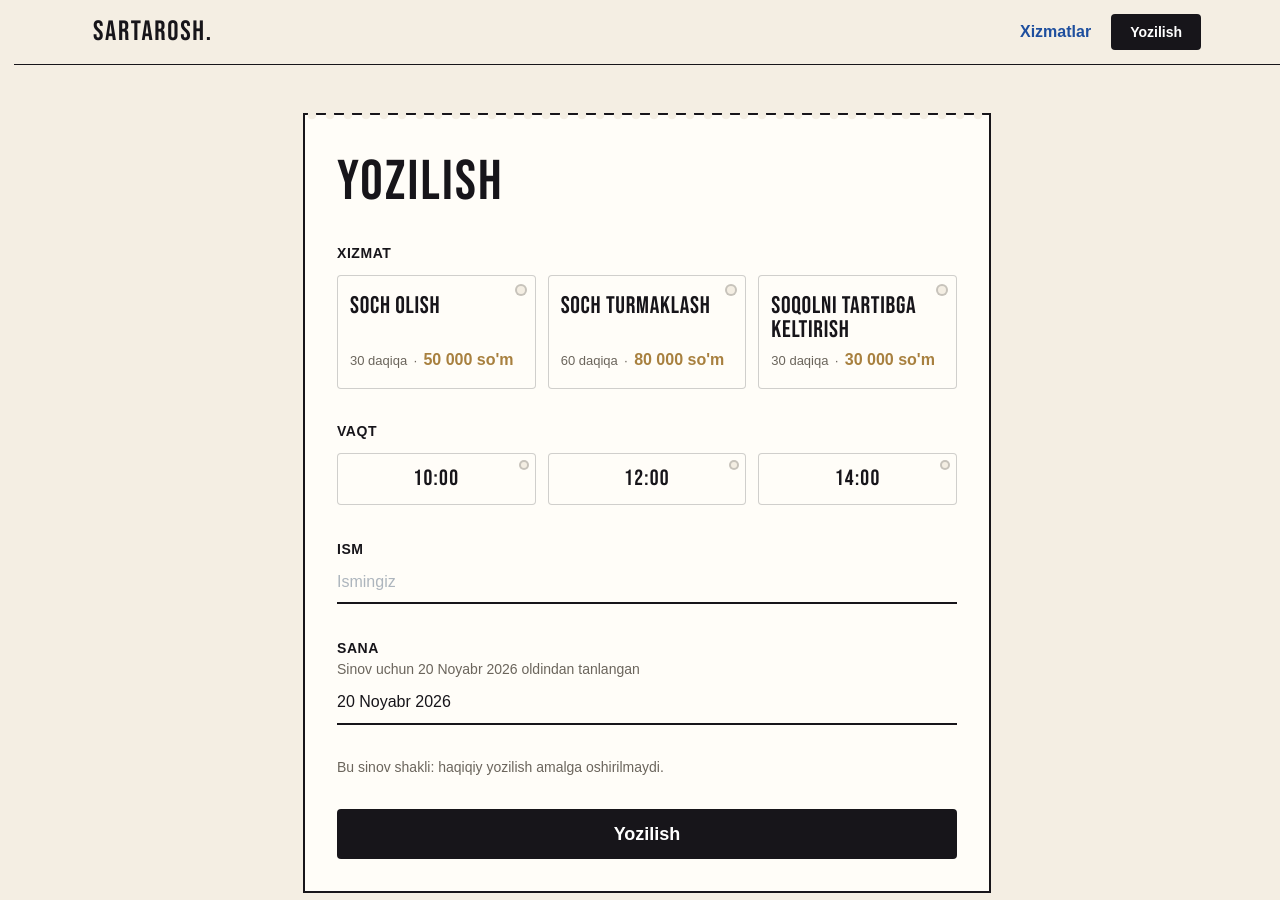
check 2b: empty name -> Ismingizni kiriting
This screenshot has width=1280, height=900.
Step 1. Click the radio button with test id "service-S01" → {"x": 436, "y": 332}, box [337,275,536,390]
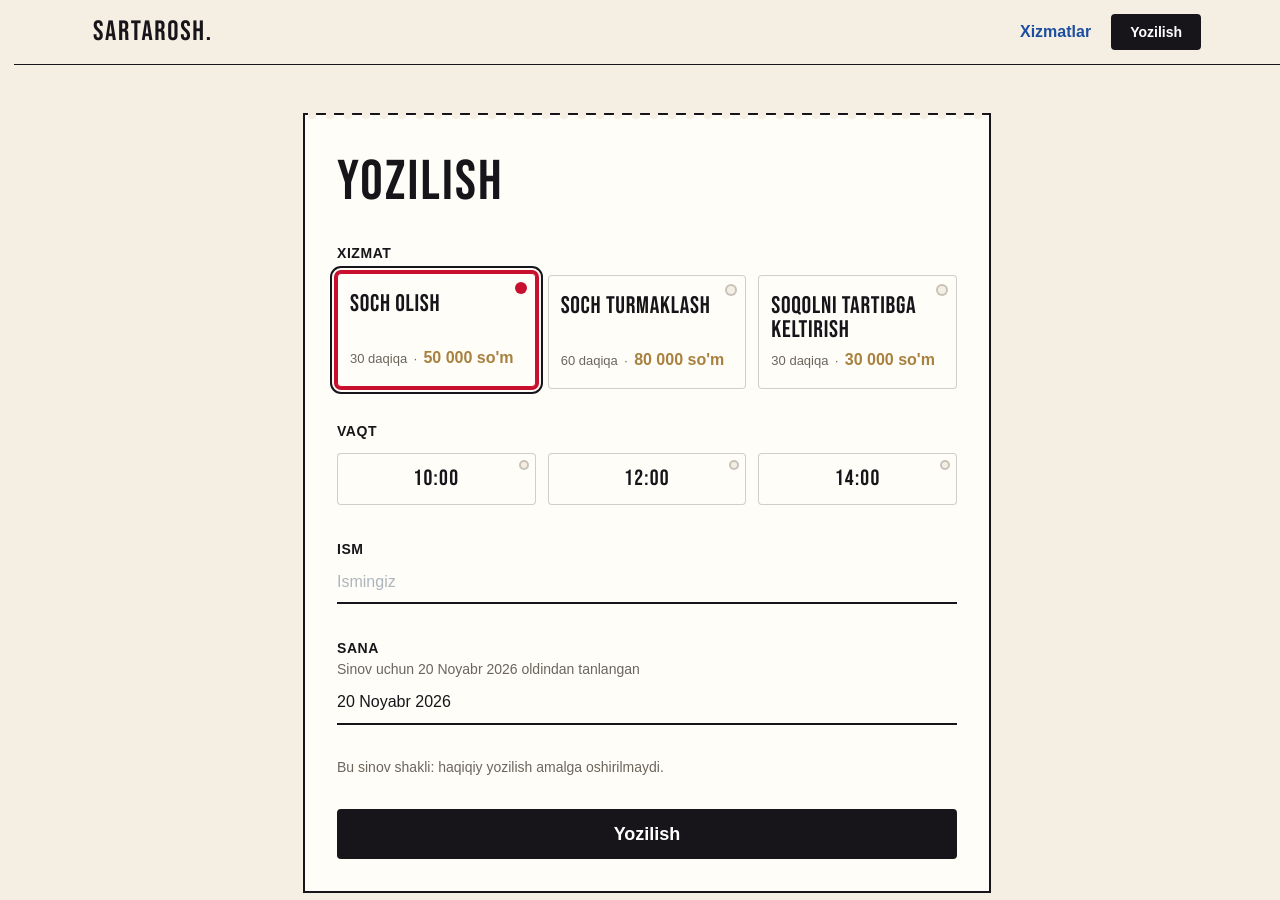
Step 2. Click the radio button with test id "time-12:00" → {"x": 647, "y": 479}, box [548,453,746,505]
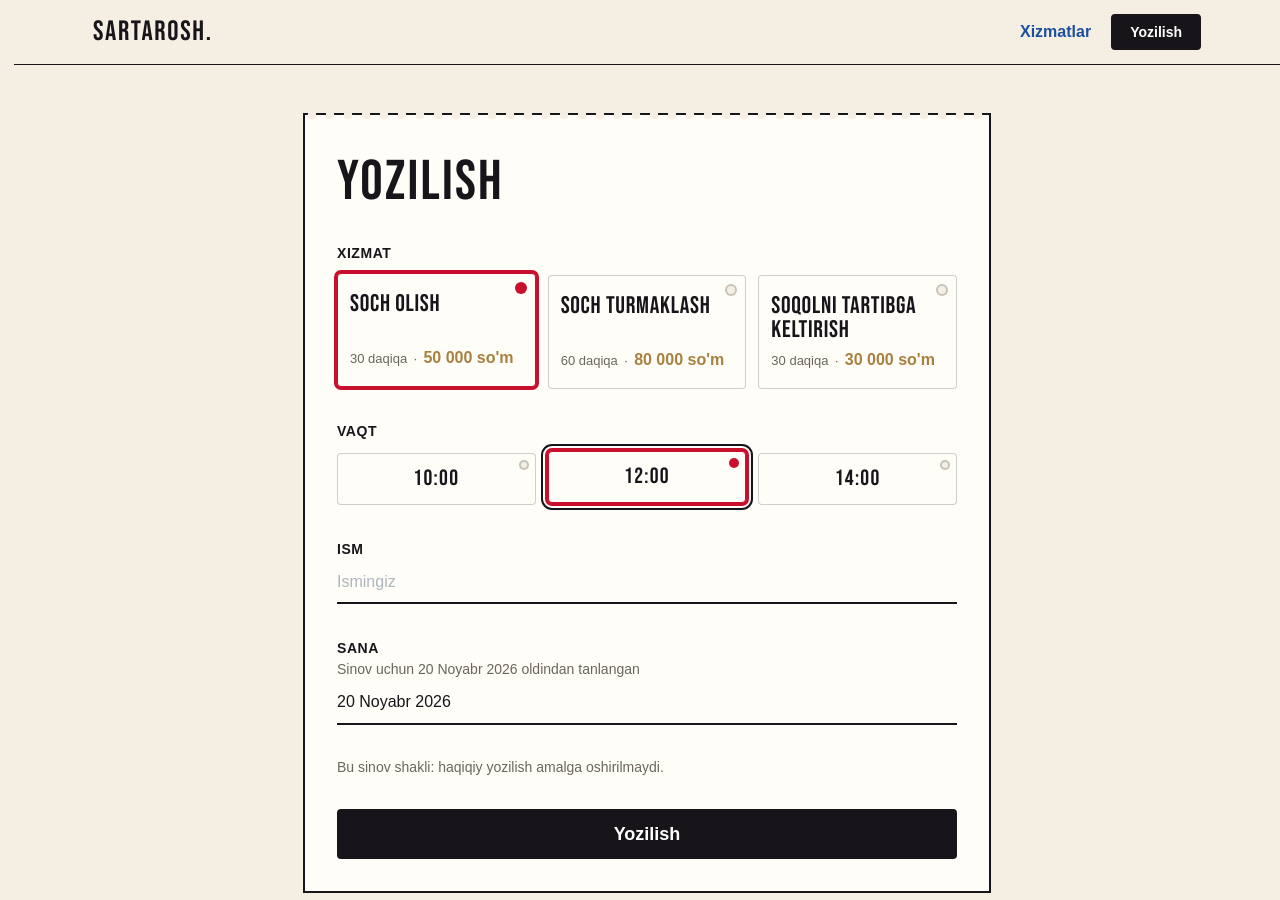
Step 3. Click the button with test id "submit-booking" → {"x": 647, "y": 834}, box [337,809,957,859]
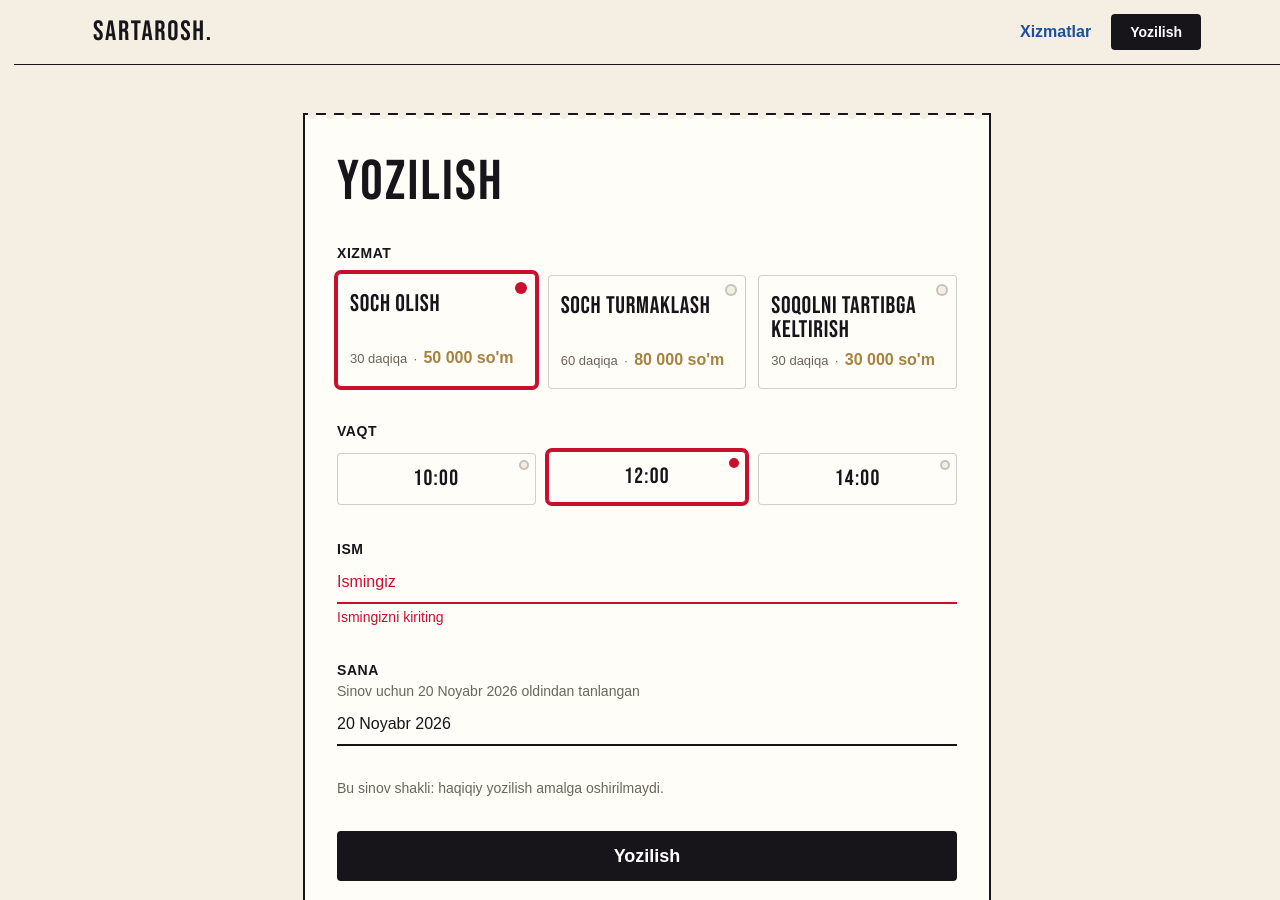
Check: the text "Ismingizni kiriting" is shown, box [337,609,444,625]
